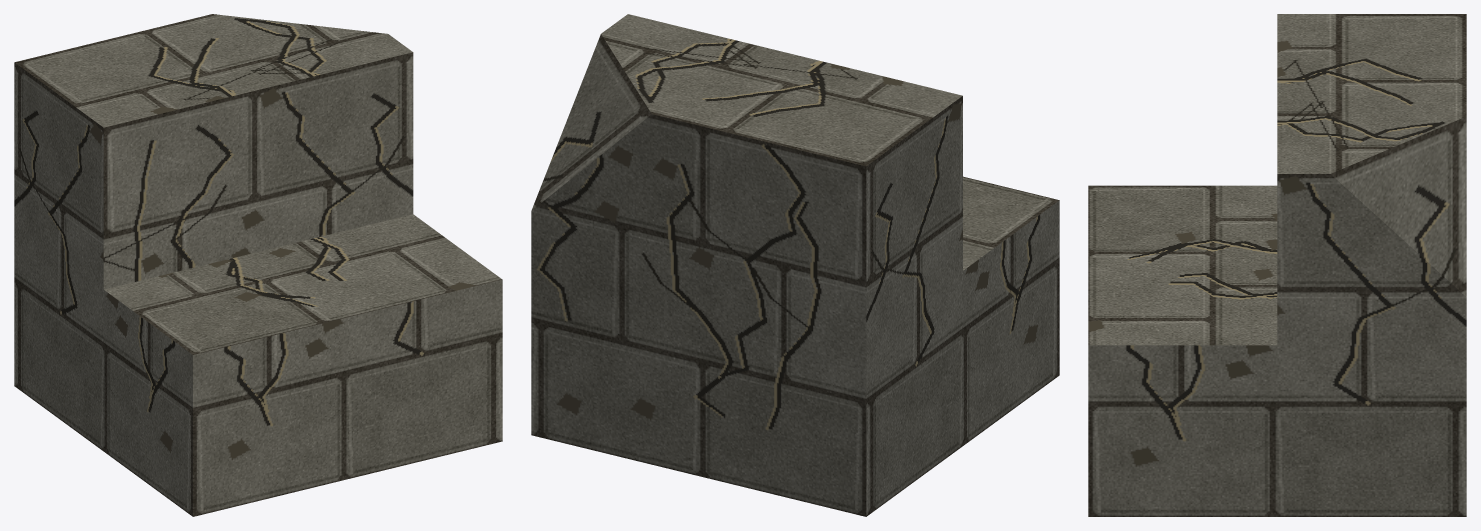
The model's file is stairs_z2.glb.
3 renders of one model, left to right at view 1: azimuth 30°, elevation 25°; view 2: azimuth 150°, elevation 25°; view 3: azimuth 270°, elevation 25°, orthographic. The views are drawn at different scales.
Parts seen in each view (by area): view 1: stairs_z2; view 2: stairs_z2; view 3: stairs_z2.
Boxes of the visible parts, left/top/right/bottom form: stairs_z2: left=14, top=14, right=502, bottom=516; stairs_z2: left=531, top=14, right=1059, bottom=516; stairs_z2: left=1088, top=14, right=1466, bottom=516.
Size of the model in its own units: 1 by 1 by 1.
Materials: 1 (1 with a texture image).
